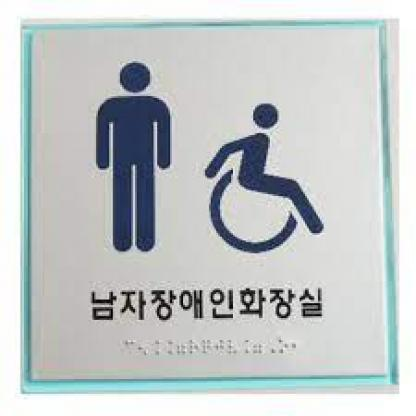toilet: (96, 58, 326, 254)
